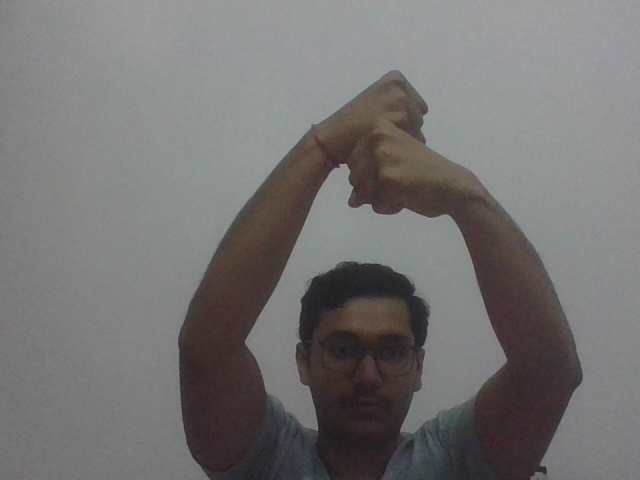G: (341, 67, 438, 223)
